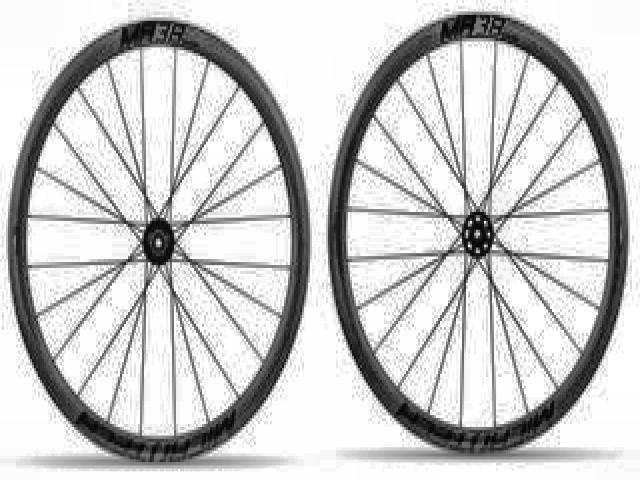wheel: (5, 15, 314, 472), (324, 7, 630, 458)
